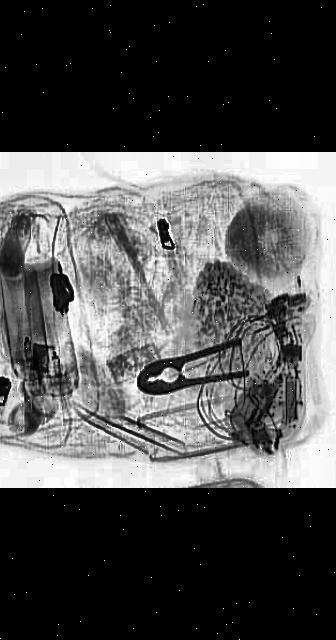Pliers: (124, 338, 264, 397)
